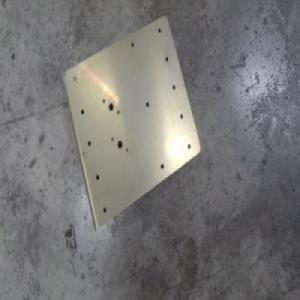MetalSheet: (61, 11, 202, 233)
